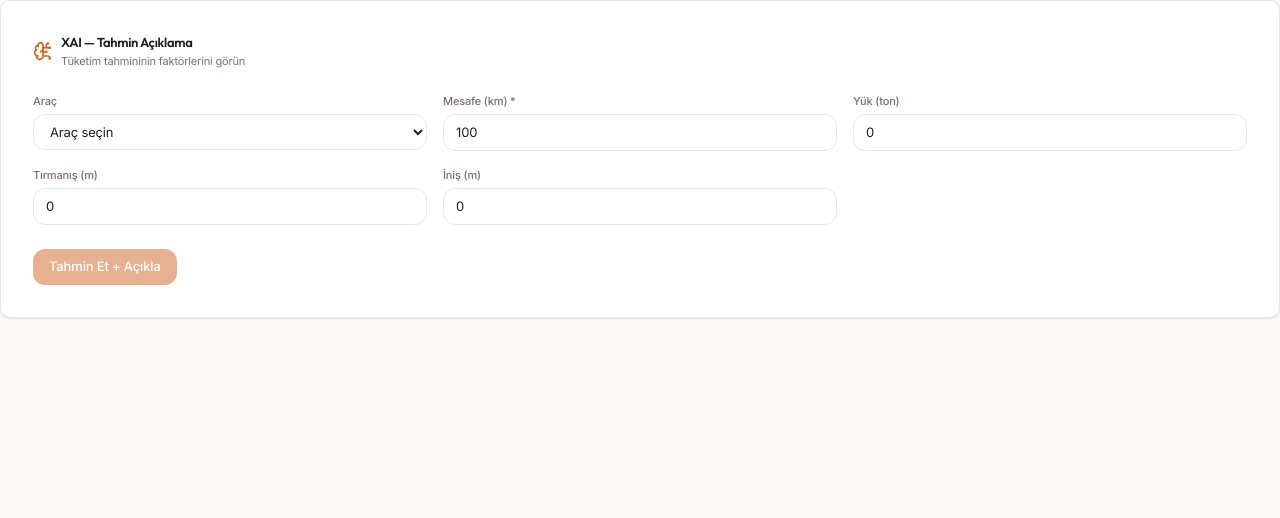
Test: XaiPanel › shows Etki Faktörleri section and factor names after result
The width and height of the screenshot is (1280, 518).
Select "06VEH005" in the dropdown at x=230, y=132, box [33,114,427,150]
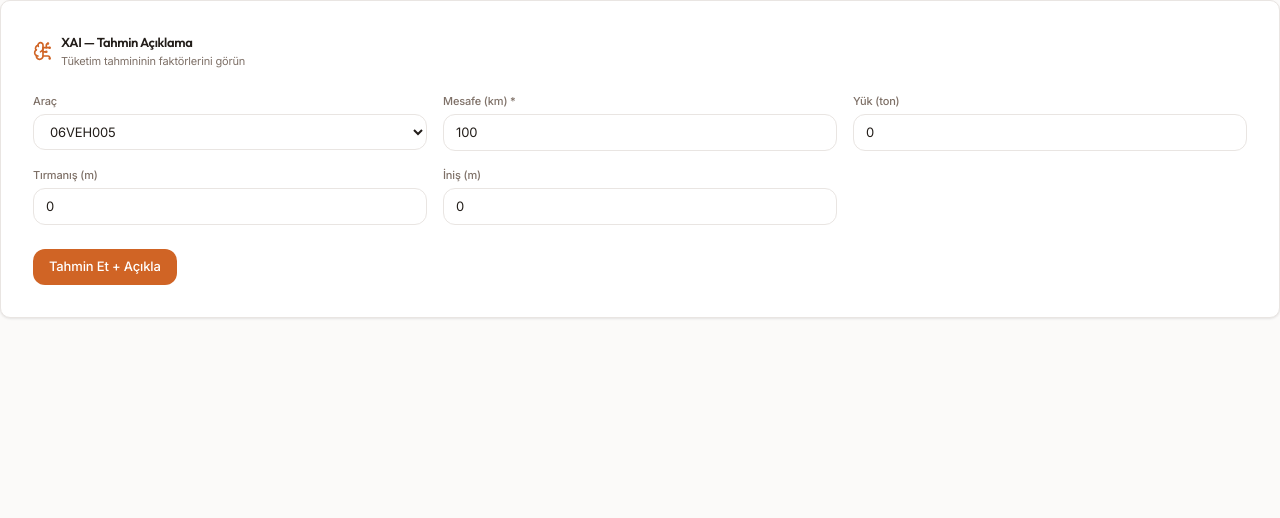
Click the button "Tahmin Et + Açıkla".
click(105, 267)  # box [33,249,177,284]
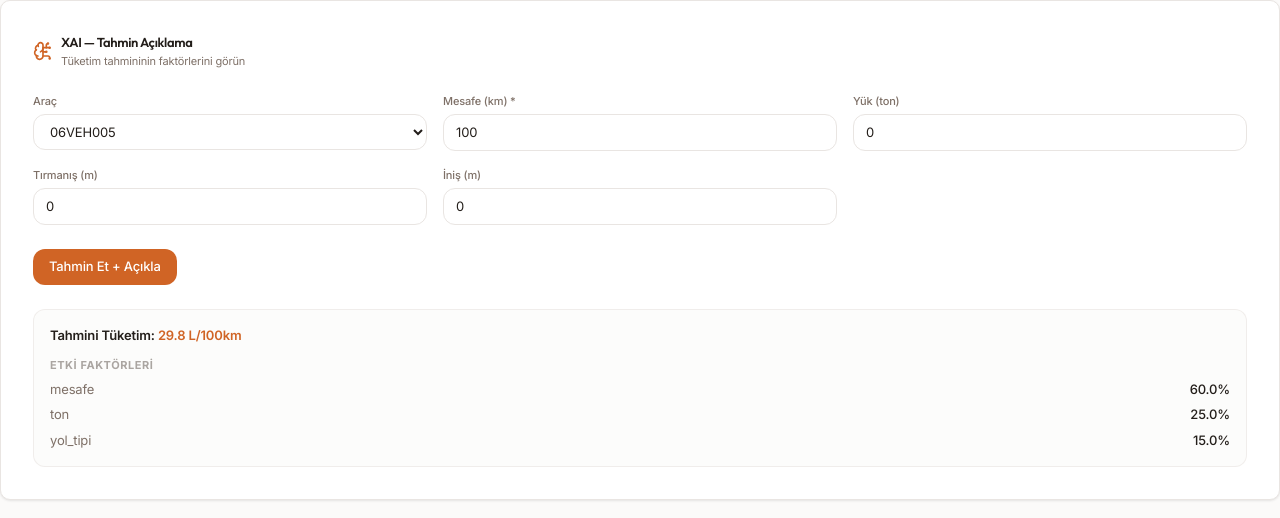
Now the text "Etki Faktörleri" is shown, box [50,358,153,372]
Now the text "mesafe" is shown, box [50,380,94,399]
Now the text "ton" is shown, box [50,405,69,424]
